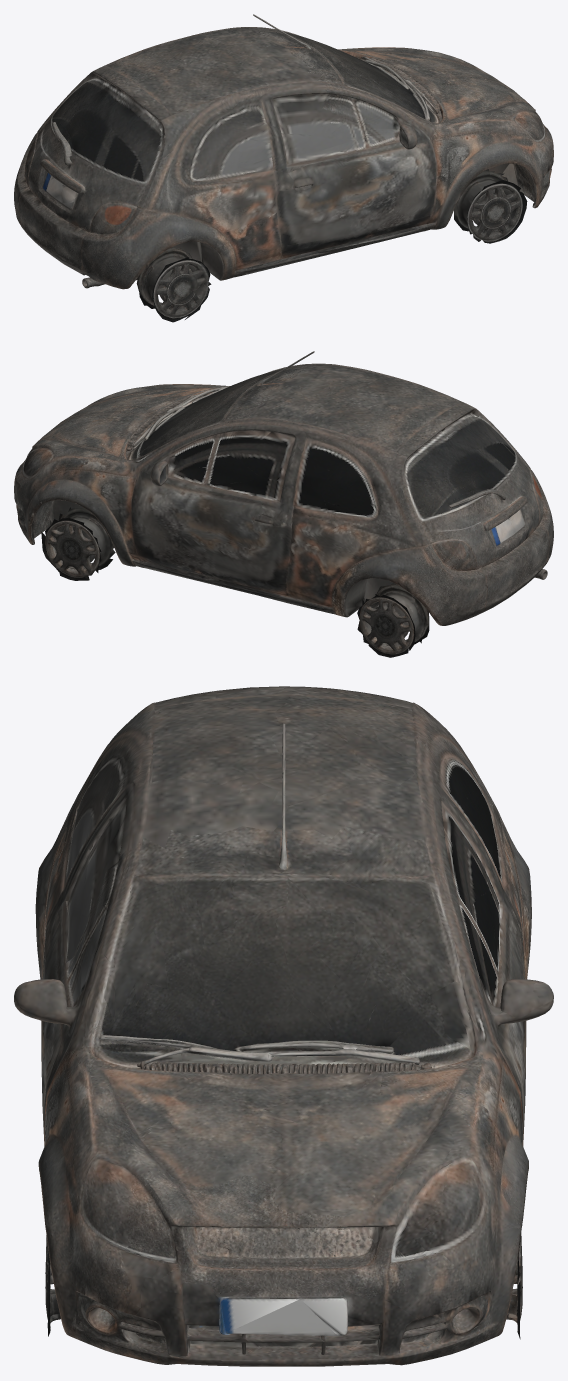
The model's file is sagui-queimado__01a16dcf.glb.
The picture shows the model from 3 angles, top to bottom: view 1: azimuth 30°, elevation 25°; view 2: azimuth 150°, elevation 25°; view 3: azimuth 270°, elevation 25°; orthographic projection. The views are drawn at different scales.
Parts seen in each view (by area): view 1: sagui-queimado; view 2: sagui-queimado; view 3: sagui-queimado.
Boxes of the visible parts, x1=… form: sagui-queimado: x1=14, y1=14, x2=553, y2=322; sagui-queimado: x1=14, y1=351, x2=553, y2=657; sagui-queimado: x1=14, y1=686, x2=553, y2=1366.
Bounding box in the file's own units: 3.84 × 1.75 × 1.94.
Materials: 1 (1 with a texture image).
